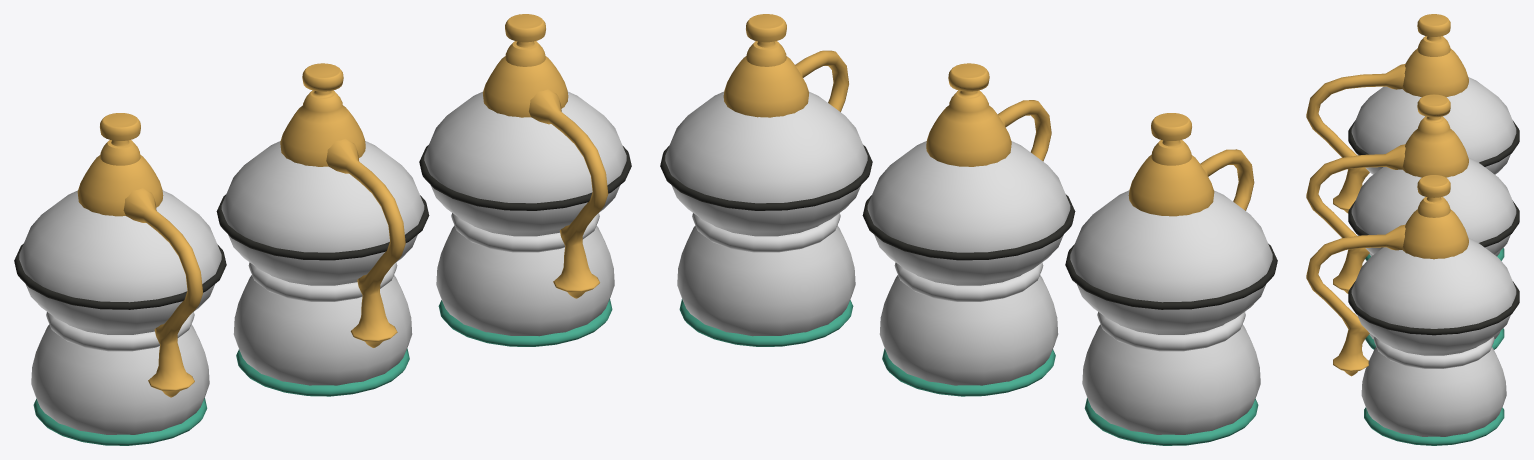
File: OT_203_three_teapots.glb
3 views of the same model, side by side, from view 1: azimuth 30°, elevation 25°; view 2: azimuth 150°, elevation 25°; view 3: azimuth 270°, elevation 25° (orthographic). The views are drawn at different scales.
Visible parts, largest first — view 1: teapot_copy_left, teapot_copy_right, teapot_orig_body, teapot_orig_lid_and_handle, teapot_orig_deco; view 2: teapot_copy_left, teapot_copy_right, teapot_orig_body, teapot_orig_lid_and_handle, teapot_orig_deco; view 3: teapot_copy_right, teapot_copy_left, teapot_orig_body, teapot_orig_lid_and_handle, teapot_orig_deco.
Part boxes in pixels (left/top/right/bottom): teapot_copy_left: left=14, top=113, right=226, bottom=445; teapot_copy_right: left=419, top=14, right=631, bottom=346; teapot_orig_body: left=221, top=141, right=424, bottom=385; teapot_orig_lid_and_handle: left=280, top=63, right=405, bottom=347; teapot_orig_deco: left=216, top=194, right=429, bottom=396; teapot_copy_left: left=1065, top=113, right=1277, bottom=445; teapot_copy_right: left=660, top=14, right=872, bottom=346; teapot_orig_body: left=867, top=141, right=1070, bottom=385; teapot_orig_lid_and_handle: left=926, top=63, right=1051, bottom=166; teapot_orig_deco: left=862, top=194, right=1075, bottom=396; teapot_copy_right: left=1306, top=175, right=1519, bottom=445; teapot_copy_left: left=1306, top=14, right=1519, bottom=260; teapot_orig_body: left=1351, top=157, right=1516, bottom=338; teapot_orig_lid_and_handle: left=1306, top=94, right=1468, bottom=293; teapot_orig_deco: left=1348, top=200, right=1519, bottom=349.
Size of the model in its own units: 1.83 by 0.8752 by 0.7074.
